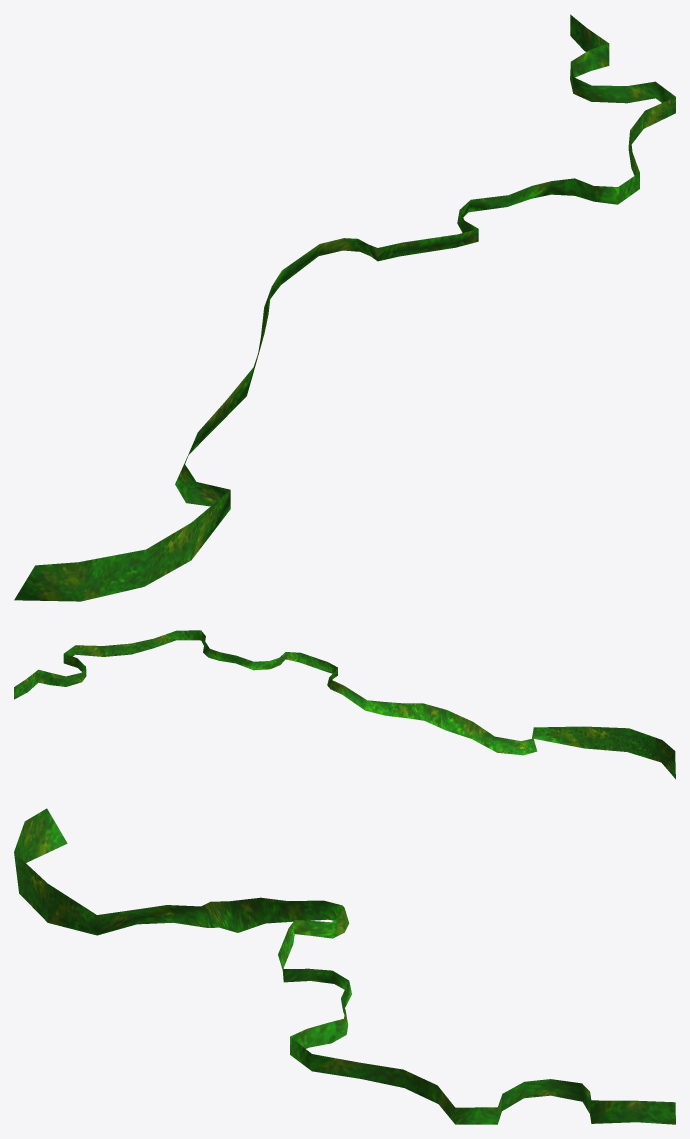
The model's file is EKH_ENTRANCE_PS_EN_GRASSTRIM84746.fbx.
The picture shows the model from 3 angles, top to bottom: view 1: azimuth 30°, elevation 25°; view 2: azimuth 150°, elevation 25°; view 3: azimuth 270°, elevation 25°; orthographic projection. The views are drawn at different scales.
Visible parts, largest first — view 1: EKH_ENTRANCE_PS_EN_GRASSTRIM84746; view 2: EKH_ENTRANCE_PS_EN_GRASSTRIM84746; view 3: EKH_ENTRANCE_PS_EN_GRASSTRIM84746.
Boxes of the visible parts, left/top/right/bottom form: EKH_ENTRANCE_PS_EN_GRASSTRIM84746: left=14, top=14, right=675, bottom=601; EKH_ENTRANCE_PS_EN_GRASSTRIM84746: left=14, top=630, right=675, bottom=779; EKH_ENTRANCE_PS_EN_GRASSTRIM84746: left=14, top=808, right=675, bottom=1124.
Bounding box in the file's own units: 185187 × 34801 × 120038.
1 material, 1 textured.
